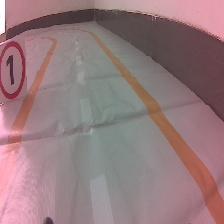limit: (1, 36, 28, 101)
